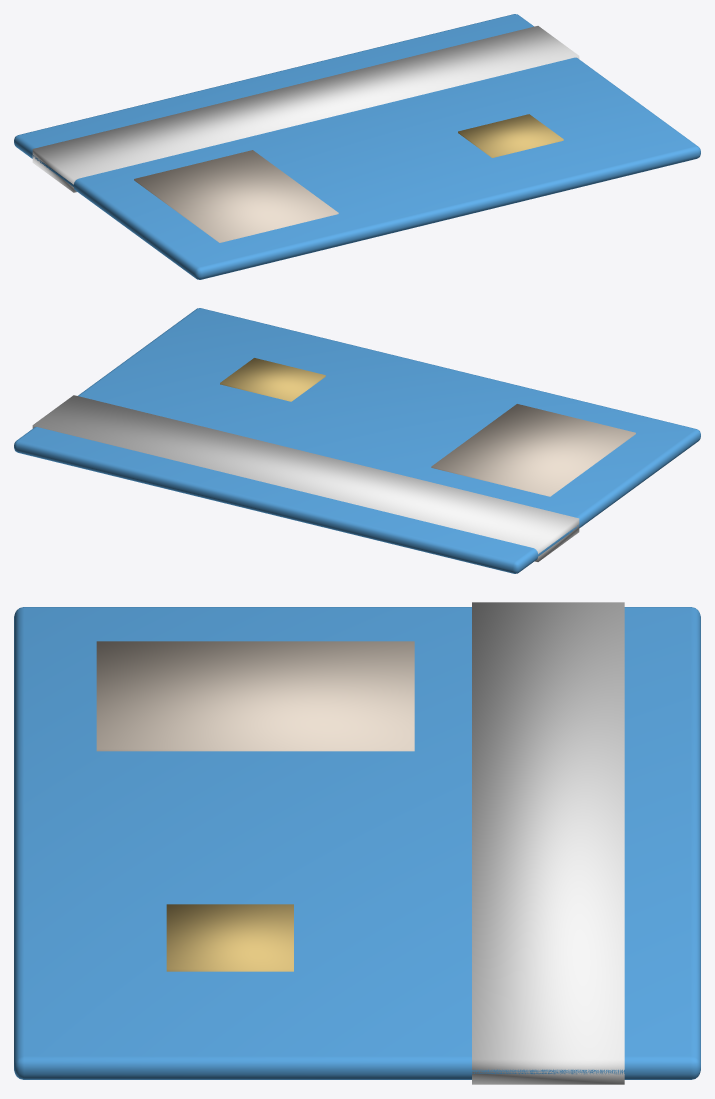
The model's file is SM_StudentCard.glb.
The picture shows the model from 3 angles, top to bottom: view 1: azimuth 30°, elevation 25°; view 2: azimuth 150°, elevation 25°; view 3: azimuth 270°, elevation 25°; orthographic projection. The views are drawn at different scales.
Parts seen in each view (by area): view 1: SM_StudentCard; view 2: SM_StudentCard; view 3: SM_StudentCard.
Boxes of the visible parts, x1,y1,x2,y2 form: SM_StudentCard: (14, 14, 700, 279); SM_StudentCard: (14, 308, 700, 573); SM_StudentCard: (14, 602, 700, 1084).
Size of the model in its own units: 0.085 by 0.0025 by 0.054.
